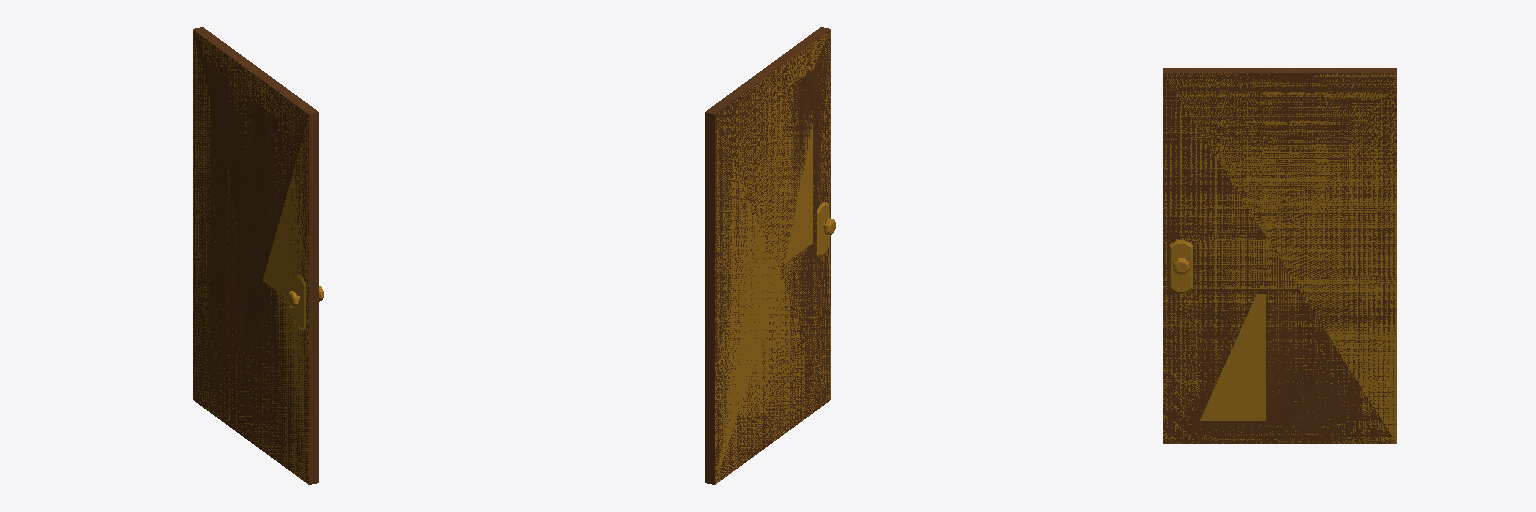
The picture shows the model from 3 angles: view 1: azimuth 30°, elevation 25°; view 2: azimuth 150°, elevation 25°; view 3: azimuth 270°, elevation 25°; orthographic projection.
Visible parts, largest first — view 1: door, UCX_door_00; view 2: door, UCX_door_00; view 3: door, UCX_door_00.
Boxes of the visible parts, <box> form: door: <box>193,27,323,484</box>; UCX_door_00: <box>193,30,308,483</box>; door: <box>705,27,835,484</box>; UCX_door_00: <box>715,30,830,484</box>; door: <box>1163,68,1396,443</box>; UCX_door_00: <box>1163,73,1396,443</box>.
Size of the model in its own units: 0.619 by 7 by 4.
2 materials, 2 textured.